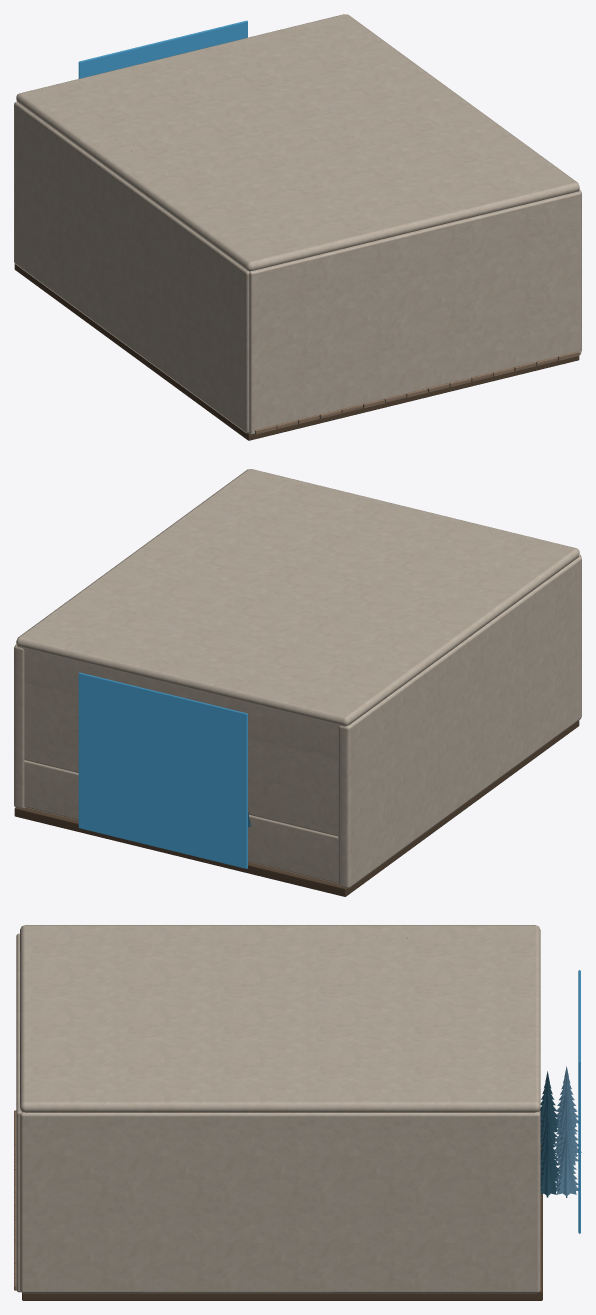
File: library-room.glb
The picture shows the model from 3 angles, top to bottom: view 1: azimuth 30°, elevation 25°; view 2: azimuth 150°, elevation 25°; view 3: azimuth 270°, elevation 25°; orthographic projection. The views are drawn at different scales.
Parts seen in each view (by area): view 1: Room_WarmPlaster, Room_DarkTimber, night pane, Room_FloorWood; view 2: Room_WarmPlaster, night pane, Room_DarkTimber; view 3: Room_WarmPlaster, Room_DarkTimber, Room_NightSilhouetteFar, Room_NightSilhouetteNear, night pane, Room_FloorWood.
Boxes of the visible parts, box(x1,y1,x2,y2) form: Room_WarmPlaster: box(14, 14, 581, 434); Room_DarkTimber: box(14, 129, 579, 440); night pane: box(78, 20, 247, 78); Room_FloorWood: box(254, 351, 579, 434); Room_WarmPlaster: box(14, 469, 581, 888); night pane: box(78, 672, 247, 868); Room_DarkTimber: box(14, 657, 579, 896); Room_WarmPlaster: box(16, 925, 540, 1293); Room_DarkTimber: box(22, 1132, 542, 1300); Room_NightSilhouetteFar: box(554, 1066, 581, 1197); Room_NightSilhouetteNear: box(540, 1071, 559, 1197); night pane: box(578, 970, 580, 1233); Room_FloorWood: box(14, 1110, 16, 1290).
Size of the model in its own units: 9.95 by 5.05 by 13.09.
Materials: 22 (6 with a texture image).
